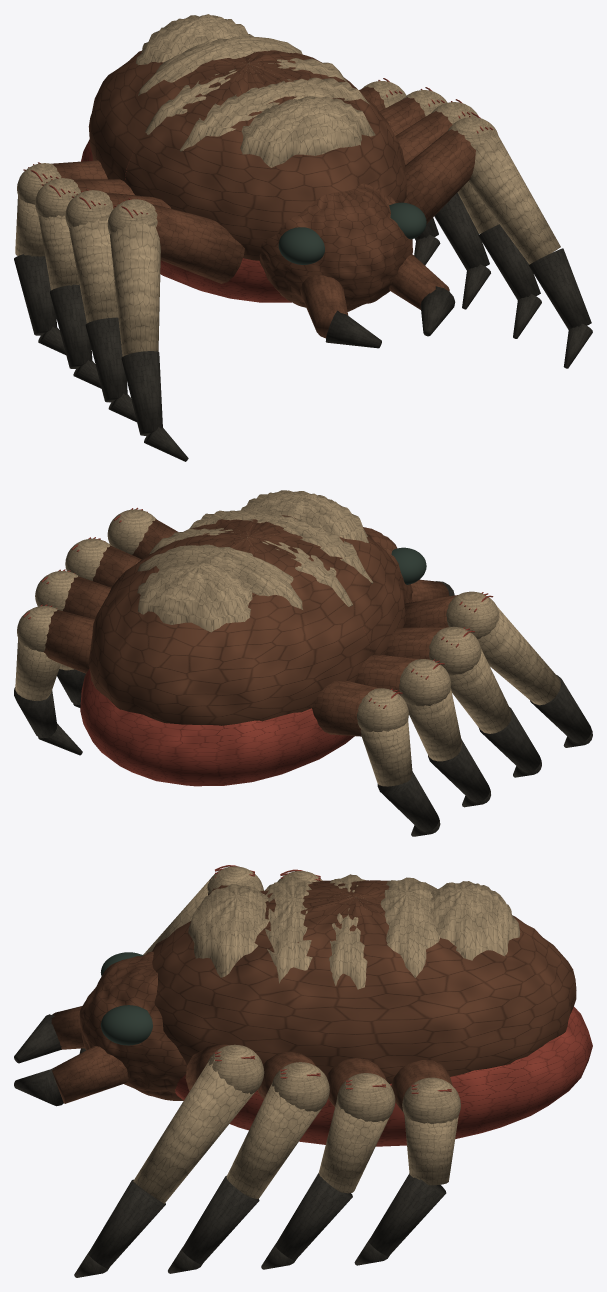
Rendered from OssuaryTick.glb.
The picture shows the model from 3 angles, top to bottom: view 1: azimuth 30°, elevation 25°; view 2: azimuth 150°, elevation 25°; view 3: azimuth 270°, elevation 25°; orthographic projection. The views are drawn at different scales.
Visible parts, largest first — view 1: Ossuary seed back, Head wedge, Laminar Scute 1, Forelimb -1 0, Forelimb 1 0, Proximal -1 0, Proximal 1 0, Laminar Scute 2, Forelimb -1 1, Laminar Scute 5, Flattened abdomen, Laminar Scute 4 (+30 smaller); view 2: Ossuary seed back, Flattened abdomen, Laminar Scute 5, Forelimb -1 0, Laminar Scute 4, Laminar Scute 1, Forelimb -1 1, Laminar Scute 2, Forelimb -1 2, Forelimb -1 3, Proximal -1 3, Proximal 1 3 (+26 smaller); view 3: Ossuary seed back, Flattened abdomen, Head wedge, Forelimb 1 0, Laminar Scute 1, Laminar Scute 5, Forelimb 1 1, Laminar Scute 4, Forelimb 1 2, Laminar Scute 2, Hook base 1 0, Hook base 1 1 (+19 smaller).
Part boxes in pixels (box(x1,y1,x2,y2)): Ossuary seed back: box(88, 50, 406, 260); Head wedge: box(259, 183, 412, 311); Laminar Scute 1: box(240, 96, 375, 167); Forelimb -1 0: box(109, 217, 160, 356); Forelimb 1 0: box(468, 131, 560, 264); Proximal -1 0: box(151, 203, 244, 283); Proximal 1 0: box(404, 129, 475, 223); Laminar Scute 2: box(179, 77, 369, 151); Forelimb -1 1: box(69, 212, 118, 323); Laminar Scute 5: box(135, 14, 253, 65); Flattened abdomen: box(81, 139, 291, 302); Laminar Scute 4: box(138, 36, 302, 95); Ossuary seed back: box(88, 515, 406, 725); Flattened abdomen: box(80, 669, 354, 786); Laminar Scute 5: box(137, 560, 252, 632); Forelimb -1 0: box(478, 606, 560, 705); Laminar Scute 4: box(137, 544, 302, 609); Laminar Scute 1: box(241, 490, 368, 542); Forelimb -1 1: box(449, 648, 511, 733); Laminar Scute 2: box(189, 509, 373, 583); Forelimb -1 2: box(406, 688, 462, 761); Forelimb -1 3: box(360, 719, 412, 786); Proximal -1 3: box(312, 680, 378, 736); Proximal 1 3: box(43, 610, 94, 673); Ossuary seed back: box(152, 880, 576, 1083); Flattened abdomen: box(175, 1006, 592, 1146); Head wedge: box(79, 951, 186, 1100); Forelimb 1 0: box(133, 1056, 254, 1203); Laminar Scute 1: box(188, 884, 269, 977); Laminar Scute 5: box(430, 881, 520, 960); Forelimb 1 1: box(226, 1083, 321, 1198); Laminar Scute 4: box(380, 877, 439, 977); Forelimb 1 2: box(319, 1101, 389, 1193); Laminar Scute 2: box(264, 876, 312, 983); Hook base 1 0: box(88, 1179, 165, 1268); Hook base 1 1: box(182, 1175, 259, 1264).
Bounding box in the file's own units: 0.7471 × 0.4208 × 0.7681.
Materials: 5 (4 with a texture image).
